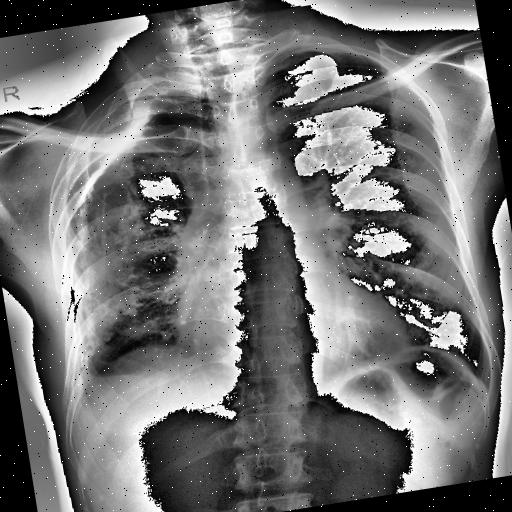10- Pleural effusion: (68, 353, 128, 405)
11- Pleural thickening: (30, 82, 204, 384), (34, 88, 192, 352), (34, 76, 202, 226), (68, 353, 128, 405), (57, 363, 111, 414)
13- Pulmonary fibrosis: (52, 182, 161, 361)
2- Calcification: (60, 98, 162, 210), (68, 118, 150, 195)
4- Consolidation: (73, 210, 154, 344)
7- Lung Opacity: (65, 188, 154, 356)
